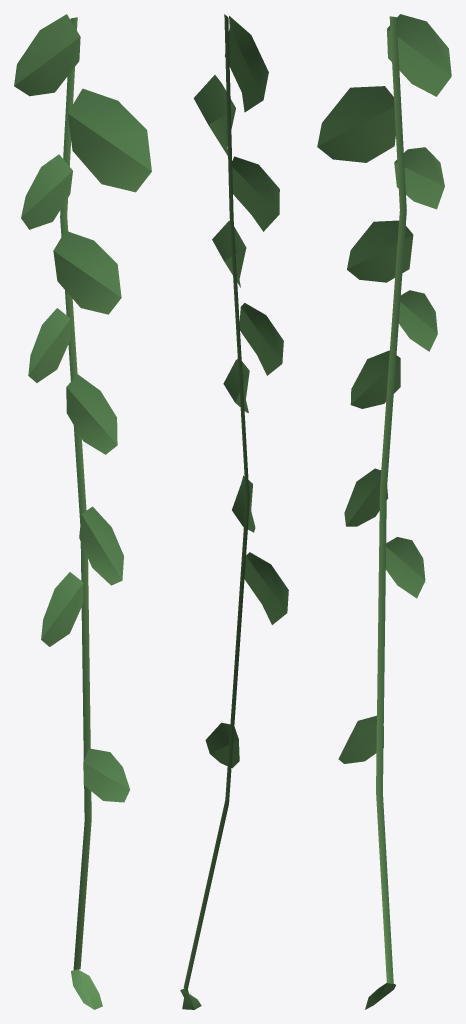
Rendered from hangingIvy2.fbx.
3 renders of one model, left to right at view 1: azimuth 90°, elevation 25°; view 2: azimuth 210°, elevation 25°; view 3: azimuth 270°, elevation 25°, orthographic. The views are drawn at different scales.
Parts seen in each view (by area): view 1: hangingIvy1; view 2: hangingIvy1; view 3: hangingIvy1.
Part boxes in pixels (x1,y1,x2,y2): hangingIvy1: (14, 14, 151, 1009); hangingIvy1: (180, 14, 288, 1009); hangingIvy1: (317, 14, 451, 1009).
Size of the model in its own units: 81.02 by 890 by 111.
